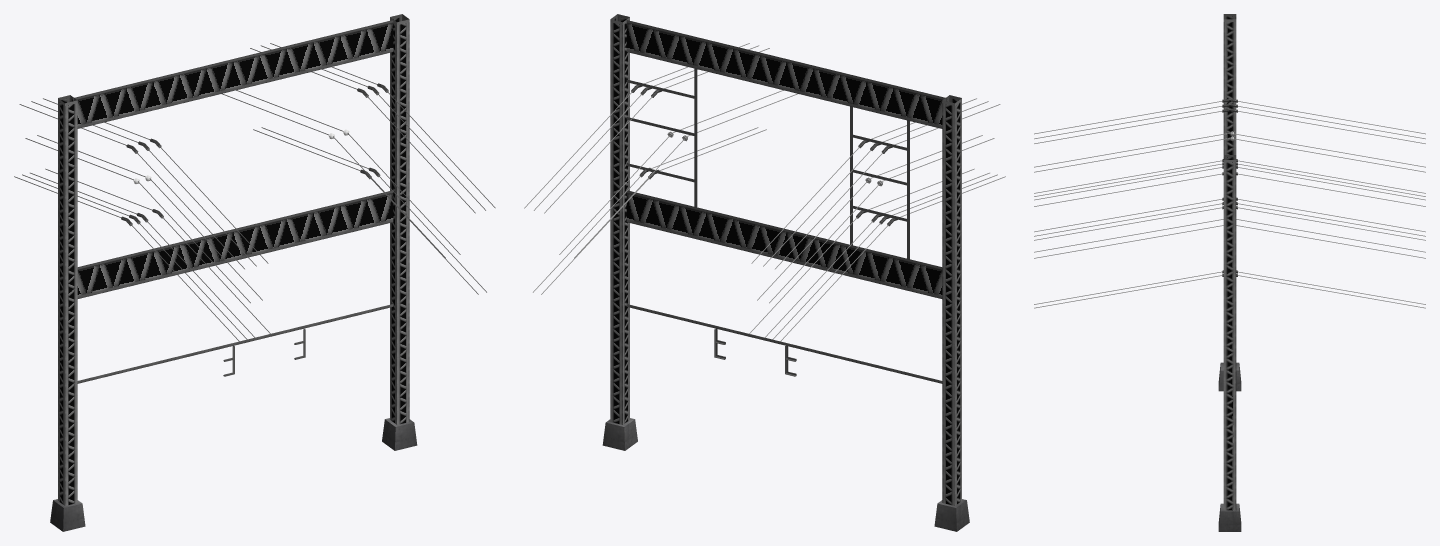
Rendered from KASENCHU02.glb.
3 renders of one model, left to right at view 1: azimuth 30°, elevation 25°; view 2: azimuth 150°, elevation 25°; view 3: azimuth 270°, elevation 25°, orthographic. The views are drawn at different scales.
Visible parts, largest first — view 1: base_clock2; view 2: base_clock2; view 3: base_clock2.
Part boxes in pixels (box(x1,y1,x2,y2)): base_clock2: box(14, 14, 495, 531); base_clock2: box(524, 14, 1005, 531); base_clock2: box(1034, 14, 1425, 531).
Size of the model in its own units: 45.4 by 52.08 by 50.
Materials: 5 (5 with a texture image).
